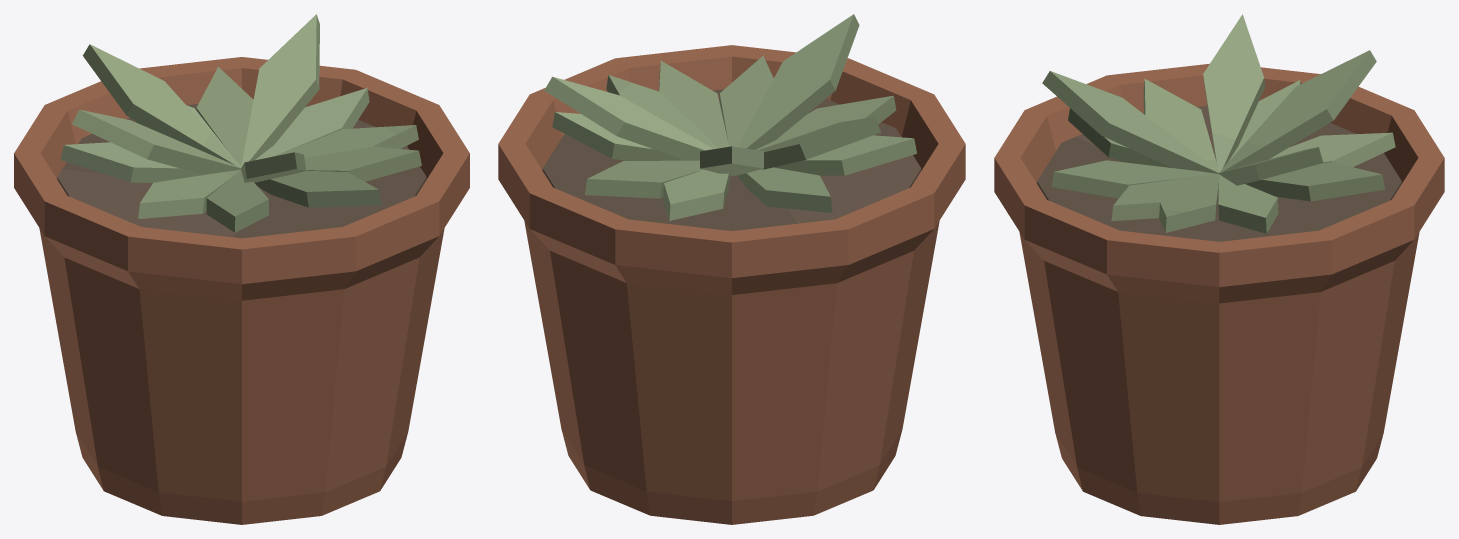
The model's file is new-agavoides.glb.
3 views of the same model, side by side, from view 1: azimuth 30°, elevation 25°; view 2: azimuth 150°, elevation 25°; view 3: azimuth 270°, elevation 25° (orthographic). The views are drawn at different scales.
Visible parts, largest first — view 1: new-agavoides/review-terra-vessel, new-agavoides/review-rooted-soil, new-agavoides/leaf-012, new-agavoides/leaf-010, new-agavoides/leaf-013, new-agavoides/leaf-006, new-agavoides/leaf-007, new-agavoides/leaf-005, new-agavoides/leaf-004, new-agavoides/leaf-008, new-agavoides/leaf-001, new-agavoides/leaf-003 (+2 smaller); view 2: new-agavoides/review-terra-vessel, new-agavoides/review-rooted-soil, new-agavoides/leaf-011, new-agavoides/leaf-012, new-agavoides/leaf-007, new-agavoides/leaf-008, new-agavoides/leaf-005, new-agavoides/leaf-001, new-agavoides/leaf-013, new-agavoides/leaf-006, new-agavoides/leaf-002, new-agavoides/leaf-004 (+3 smaller); view 3: new-agavoides/review-terra-vessel, new-agavoides/review-rooted-soil, new-agavoides/leaf-010, new-agavoides/leaf-011, new-agavoides/leaf-013, new-agavoides/leaf-007, new-agavoides/leaf-006, new-agavoides/leaf-008, new-agavoides/leaf-004, new-agavoides/leaf-002, new-agavoides/leaf-009, new-agavoides/leaf-001 (+3 smaller).
Part boxes in pixels (bbox=[...]): new-agavoides/review-terra-vessel: bbox=[14, 57, 469, 524]; new-agavoides/review-rooted-soil: bbox=[57, 104, 426, 238]; new-agavoides/leaf-012: bbox=[241, 14, 319, 166]; new-agavoides/leaf-010: bbox=[83, 44, 241, 167]; new-agavoides/leaf-013: bbox=[72, 109, 240, 174]; new-agavoides/leaf-006: bbox=[255, 170, 380, 207]; new-agavoides/leaf-007: bbox=[196, 67, 253, 165]; new-agavoides/leaf-005: bbox=[61, 142, 202, 182]; new-agavoides/leaf-004: bbox=[255, 88, 369, 160]; new-agavoides/leaf-008: bbox=[138, 170, 240, 218]; new-agavoides/leaf-001: bbox=[304, 146, 421, 181]; new-agavoides/leaf-003: bbox=[206, 170, 268, 232]; new-agavoides/review-terra-vessel: bbox=[498, 45, 965, 524]; new-agavoides/review-rooted-soil: bbox=[542, 89, 921, 230]; new-agavoides/leaf-011: bbox=[738, 14, 859, 149]; new-agavoides/leaf-012: bbox=[544, 76, 713, 160]; new-agavoides/leaf-007: bbox=[584, 160, 703, 198]; new-agavoides/leaf-008: bbox=[774, 135, 916, 175]; new-agavoides/leaf-005: bbox=[737, 167, 832, 212]; new-agavoides/leaf-001: bbox=[658, 60, 728, 148]; new-agavoides/leaf-013: bbox=[758, 116, 880, 169]; new-agavoides/leaf-006: bbox=[719, 56, 773, 147]; new-agavoides/leaf-002: bbox=[663, 169, 730, 220]; new-agavoides/leaf-004: bbox=[552, 112, 685, 160]; new-agavoides/review-terra-vessel: bbox=[994, 63, 1444, 524]; new-agavoides/review-rooted-soil: bbox=[1037, 105, 1401, 241]; new-agavoides/leaf-010: bbox=[1220, 50, 1376, 172]; new-agavoides/leaf-011: bbox=[1042, 71, 1219, 173]; new-agavoides/leaf-013: bbox=[1203, 14, 1265, 172]; new-agavoides/leaf-007: bbox=[1245, 162, 1384, 201]; new-agavoides/leaf-006: bbox=[1051, 160, 1216, 198]; new-agavoides/leaf-008: bbox=[1143, 79, 1217, 170]; new-agavoides/leaf-004: bbox=[1218, 174, 1278, 233]; new-agavoides/leaf-002: bbox=[1270, 132, 1395, 166]; new-agavoides/leaf-009: bbox=[1159, 174, 1219, 232]; new-agavoides/leaf-001: bbox=[1111, 174, 1218, 221].
Size of the model in its own units: 0.19 by 0.1731 by 0.19.
3 materials, 3 textured.
